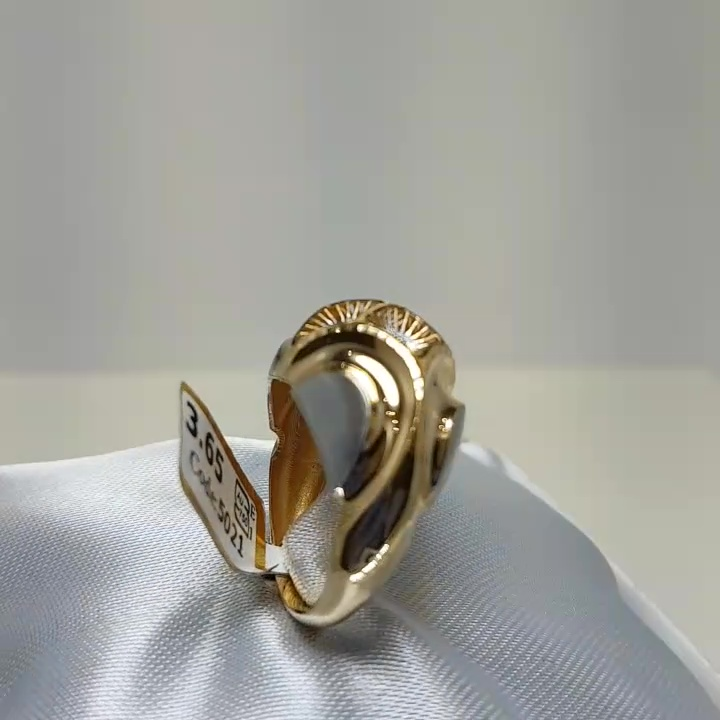Ring 2: (198, 261, 511, 640)
